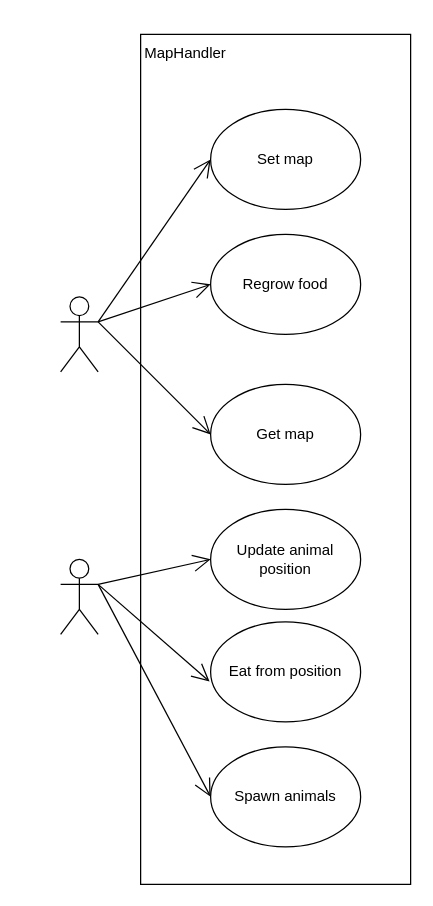
Some shapes in this 433 by 906 pixel diagram are drawn without their labels. Here are the shapes that lost their labels. From the top down, the centre of each, then its label:
At point (78, 334): "CringeForest".
At point (78, 596): "AnimalSimulation".
